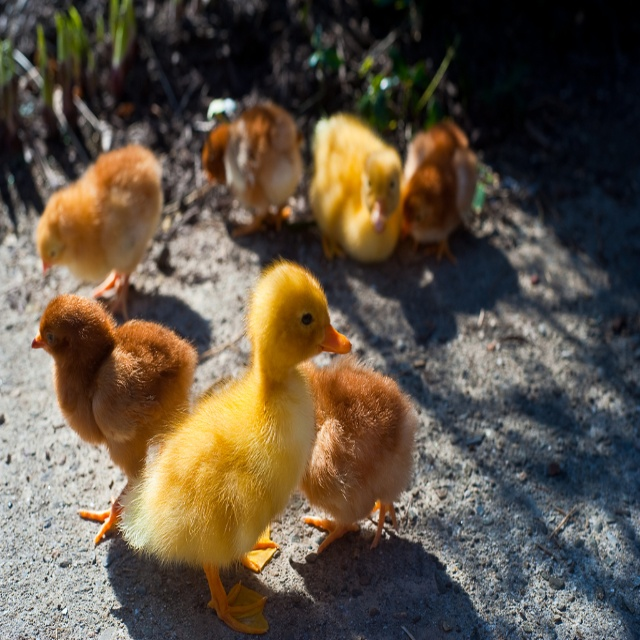Chicken: (118, 261, 348, 635)
